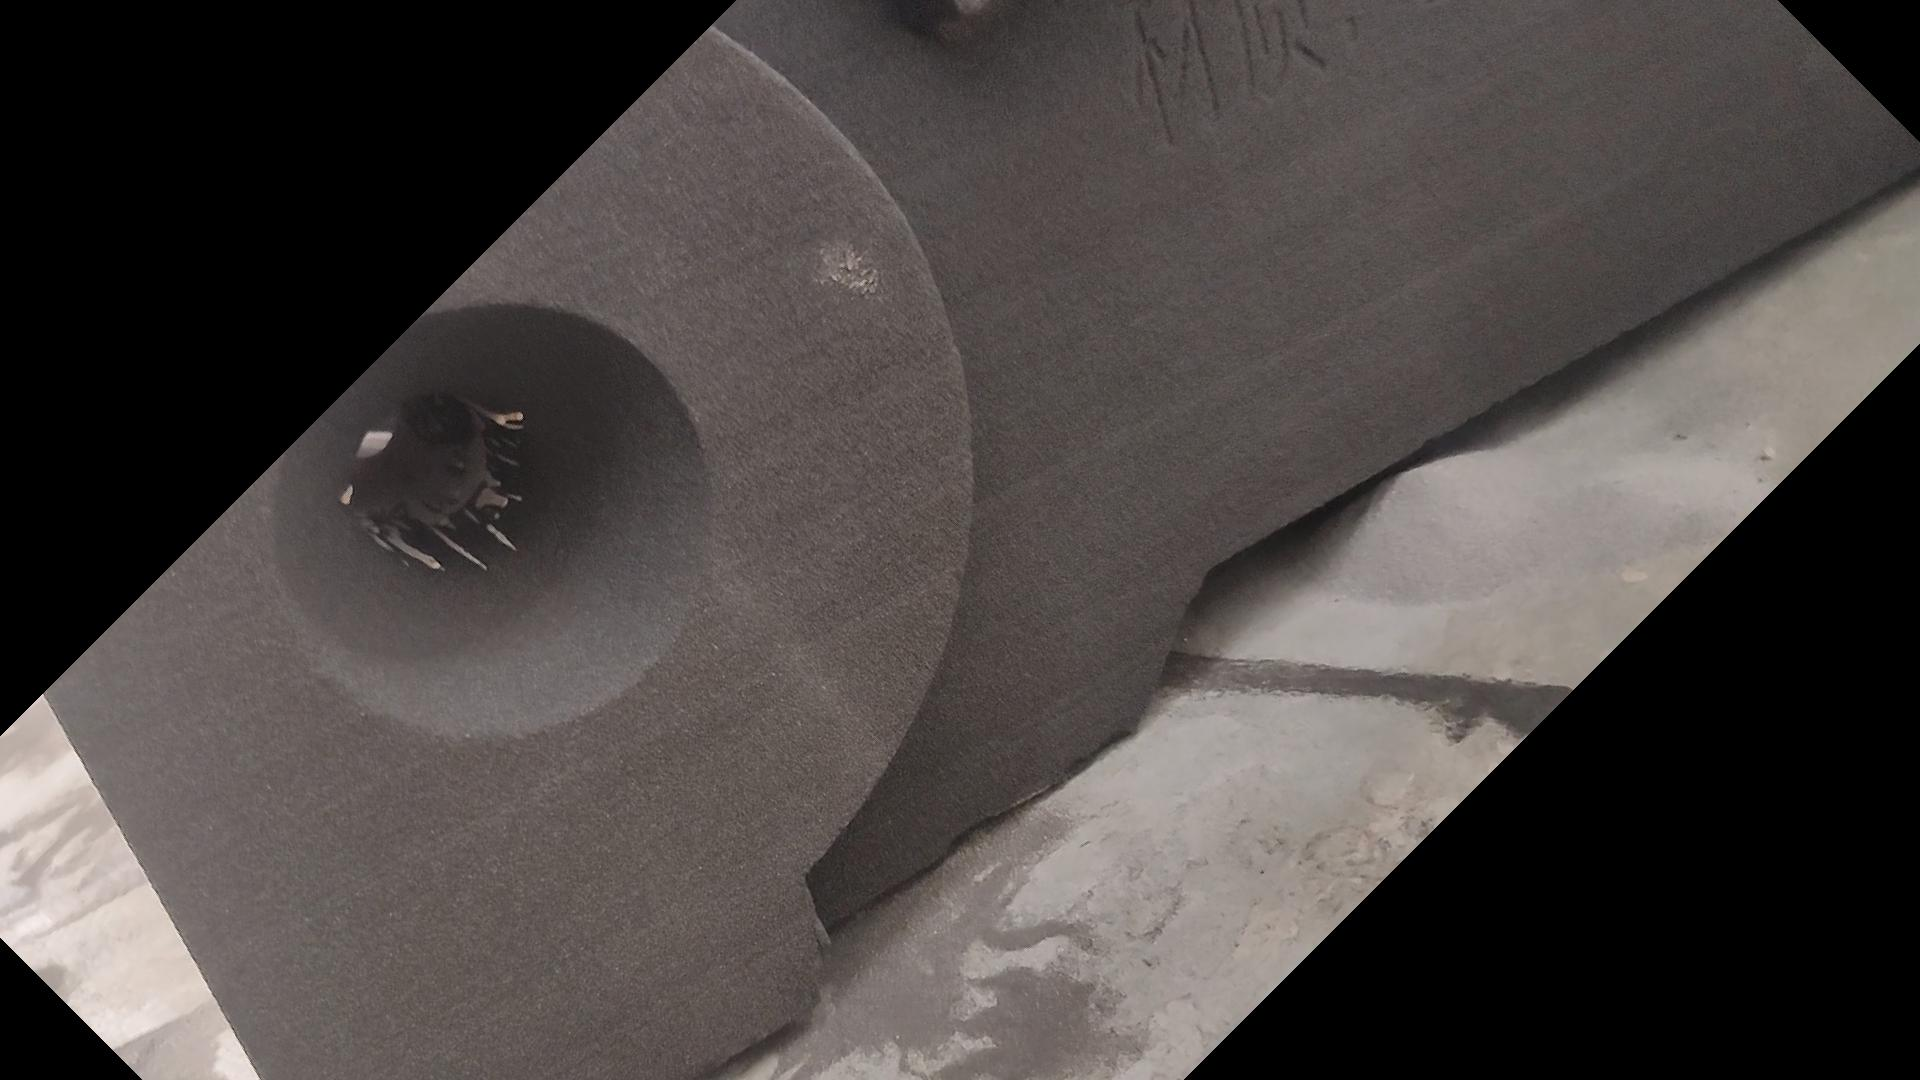pouring hole: (262, 302, 711, 736)
